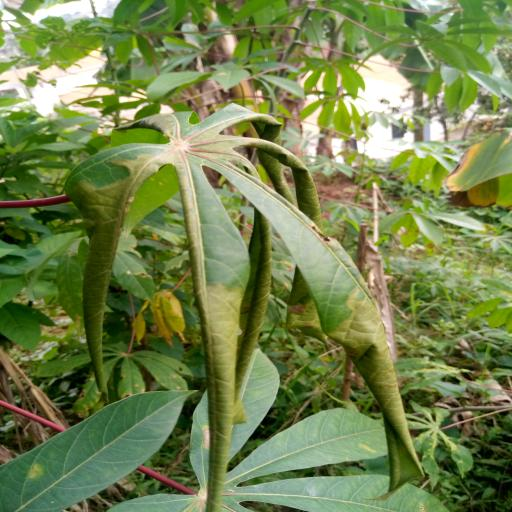Cassava_Root_Rot: (70, 107, 426, 495)
